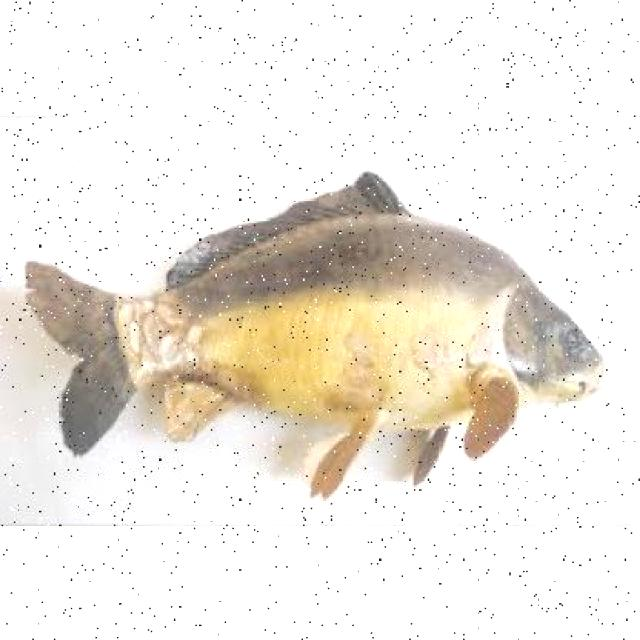ikan-mas: (33, 184, 601, 453)
